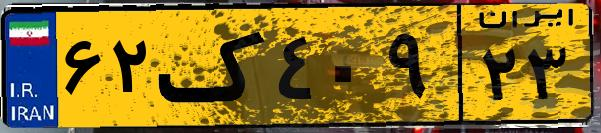0: (330, 28, 385, 110)
2: (475, 38, 525, 113), (110, 28, 158, 98)
3: (525, 38, 570, 115)
4: (270, 28, 330, 110)
6: (57, 26, 110, 100)
9: (385, 28, 445, 110)
ک: (158, 12, 270, 120)
